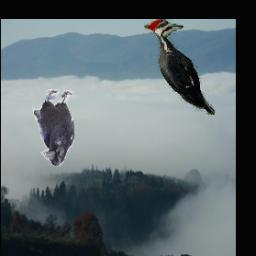Crow: (32, 89, 74, 167)
Woodpecker: (145, 20, 216, 116)
